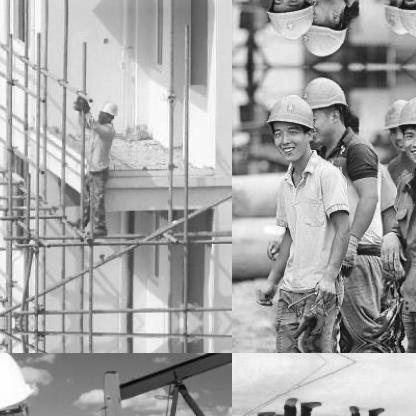Helmet: (264, 88, 324, 158), (286, 76, 344, 148), (286, 0, 345, 56), (263, 0, 325, 44), (380, 93, 412, 154), (379, 0, 413, 38), (401, 88, 415, 167), (93, 97, 119, 125), (401, 0, 415, 44)
